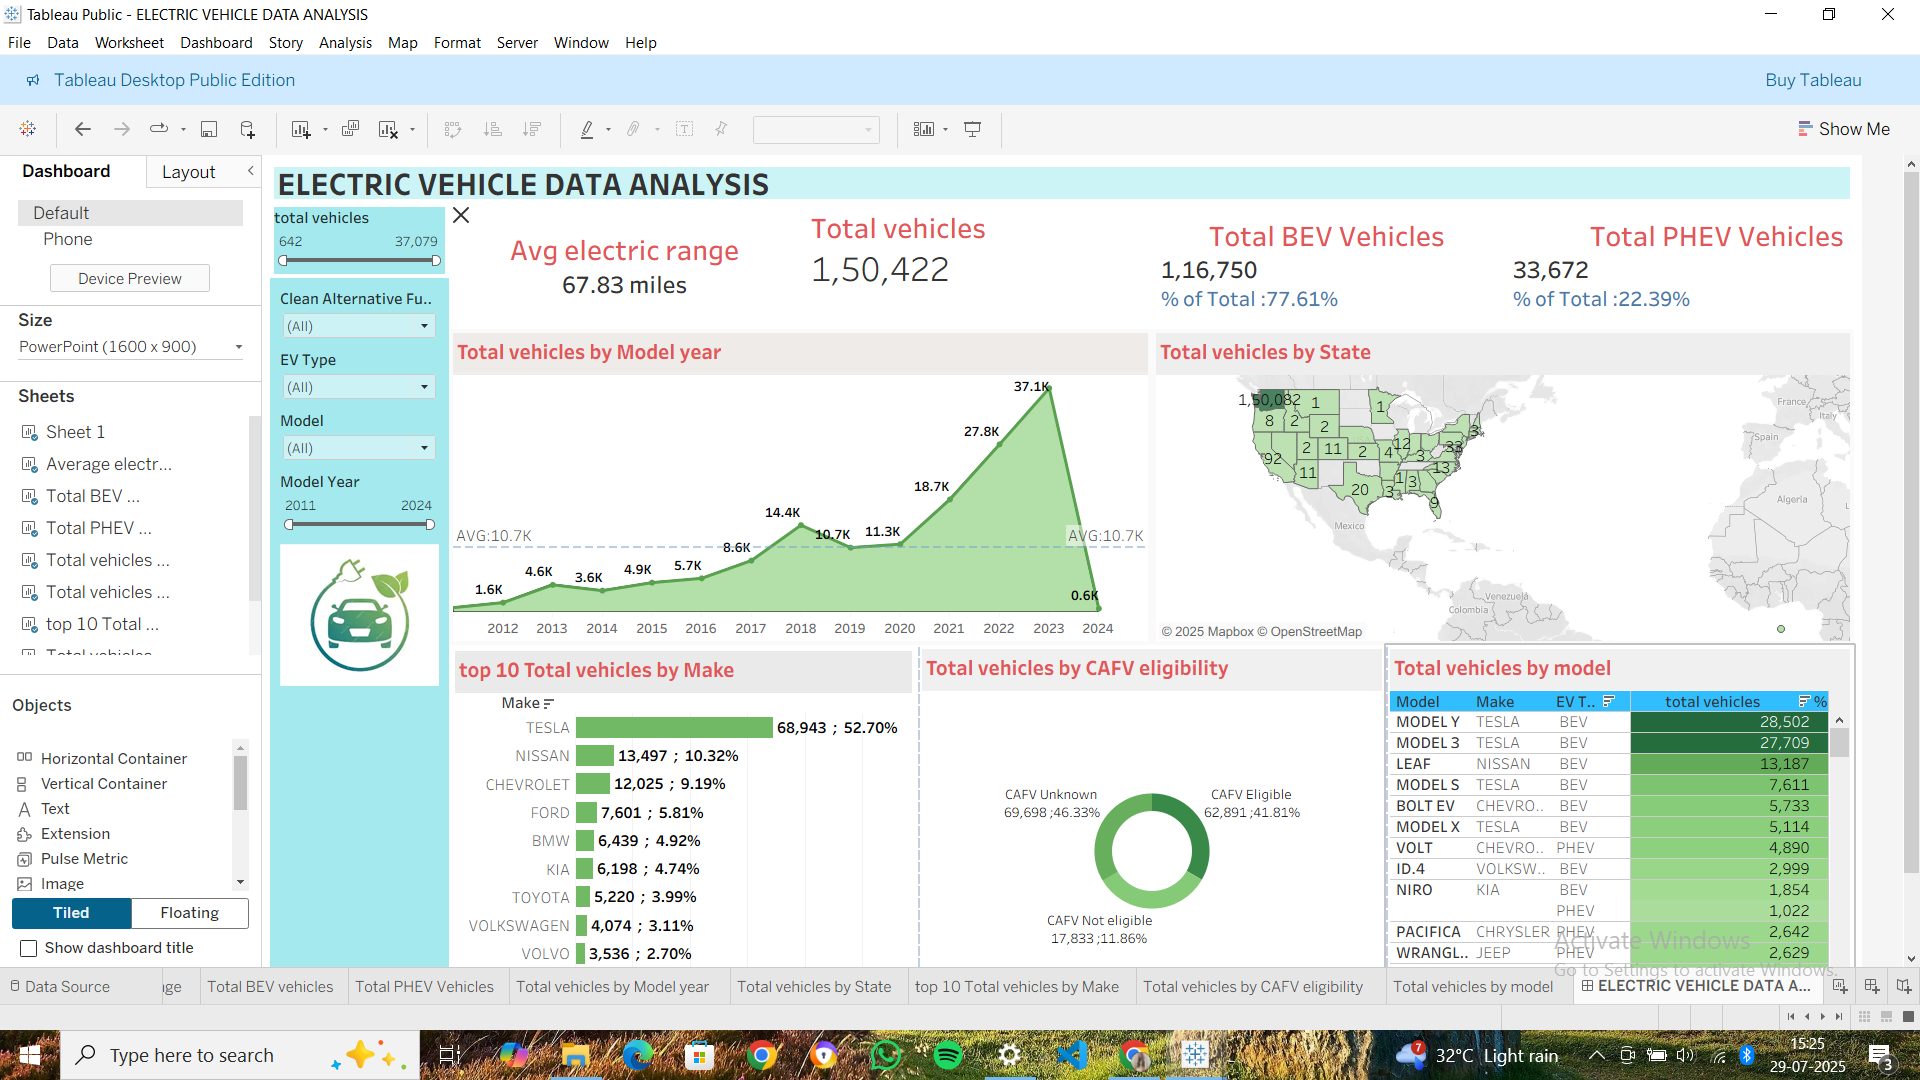

Layout of this report page (visuals, bound fields, positions):
{"tool":"tableau","page":{"name":"ELECTRIC VEHICLE DATA ANALYSIS","canvas":[1600,900],"ordinal":0},"visuals":[{"type":"title","box":[8,8,1584,40]},{"type":"filter","title":"Total vehicles by Model year ","param":"[federated.0np7ksy1l6s4591cle3y61b81uhi].[usr:Calculation_277815833744773120:qk]","box":[8,48,179,75]},{"type":"worksheet","title":"Average electric range ","mark":"Automatic","box":[187,48,352,126]},{"type":"dashboard-object","box":[187,48,24,24]},{"type":"worksheet","title":"Sheet 1","mark":"Automatic","box":[539,48,351,126]},{"type":"worksheet","title":"Total BEV vehicles","mark":"Automatic","box":[890,48,351,126]},{"type":"worksheet","title":"Total PHEV Vehicles","mark":"Automatic","box":[1241,48,351,126]},{"type":"filter","title":"Total vehicles by Model year ","param":"[federated.0np7ksy1l6s4591cle3y61b81uhi].[none:Clean Alternative Fuel Vehicle (C","box":[14,129,167,61]},{"type":"worksheet","title":"Total vehicles by Model year ","mark":"Area","rows":["Calculation_277815833744773120","Calculation_277815833744773120"],"cols":["Model Year"],"box":[187,174,703,316]},{"type":"worksheet","title":"Total vehicles by State","mark":"Multipolygon","box":[890,174,702,316]},{"type":"filter","title":"Total vehicles by Model year ","param":"[federated.0np7ksy1l6s4591cle3y61b81uhi].[none:Electric Vehicle Type:nk]","box":[14,190,167,61]},{"type":"filter","title":"Total vehicles by Model year ","param":"[federated.0np7ksy1l6s4591cle3y61b81uhi].[none:Model:nk]","box":[14,251,167,61]},{"type":"filter","title":"Total vehicles by Model year ","param":"[federated.0np7ksy1l6s4591cle3y61b81uhi].[none:Model Year:qk]","box":[14,312,167,73]},{"type":"image","box":[14,385,167,501]},{"type":"worksheet","title":"top 10 Total vehicles by Make","mark":"Automatic","rows":["Make"],"cols":["Calculation_277815833744773120"],"box":[187,490,469,370]},{"type":"worksheet","title":"Total vehicles by CAFV eligibility ","mark":"Pie","rows":["Calculation_277815833766342663","Calculation_277815833766342663"],"box":[656,490,468,370]},{"type":"worksheet","title":"Total vehicles by model ","mark":"Square","rows":["Model","Make","Electric Vehicle Type"],"box":[1124,490,468,370]}]}

Visuals, with their boxes on the page's 1600x900 design canvas (x1, y1, x2, y2). These are canvas units, not pixel positions in the 1920x1080 screenshot, which may show the page scaled, cropped or inside an application window:
title: {"x1": 8, "y1": 8, "x2": 1592, "y2": 48}
"Total vehicles by Model year " filter: {"x1": 8, "y1": 48, "x2": 187, "y2": 123}
"Average electric range " worksheet: {"x1": 187, "y1": 48, "x2": 539, "y2": 174}
dashboard-object: {"x1": 187, "y1": 48, "x2": 211, "y2": 72}
"Sheet 1" worksheet: {"x1": 539, "y1": 48, "x2": 890, "y2": 174}
"Total BEV vehicles" worksheet: {"x1": 890, "y1": 48, "x2": 1241, "y2": 174}
"Total PHEV Vehicles" worksheet: {"x1": 1241, "y1": 48, "x2": 1592, "y2": 174}
"Total vehicles by Model year " filter: {"x1": 14, "y1": 129, "x2": 181, "y2": 190}
"Total vehicles by Model year " worksheet (Area marks): {"x1": 187, "y1": 174, "x2": 890, "y2": 490}
"Total vehicles by State" worksheet (Multipolygon marks): {"x1": 890, "y1": 174, "x2": 1592, "y2": 490}
"Total vehicles by Model year " filter: {"x1": 14, "y1": 190, "x2": 181, "y2": 251}
"Total vehicles by Model year " filter: {"x1": 14, "y1": 251, "x2": 181, "y2": 312}
"Total vehicles by Model year " filter: {"x1": 14, "y1": 312, "x2": 181, "y2": 385}
image: {"x1": 14, "y1": 385, "x2": 181, "y2": 886}
"top 10 Total vehicles by Make" worksheet: {"x1": 187, "y1": 490, "x2": 656, "y2": 860}
"Total vehicles by CAFV eligibility " worksheet (Pie marks): {"x1": 656, "y1": 490, "x2": 1124, "y2": 860}
"Total vehicles by model " worksheet (Square marks): {"x1": 1124, "y1": 490, "x2": 1592, "y2": 860}
